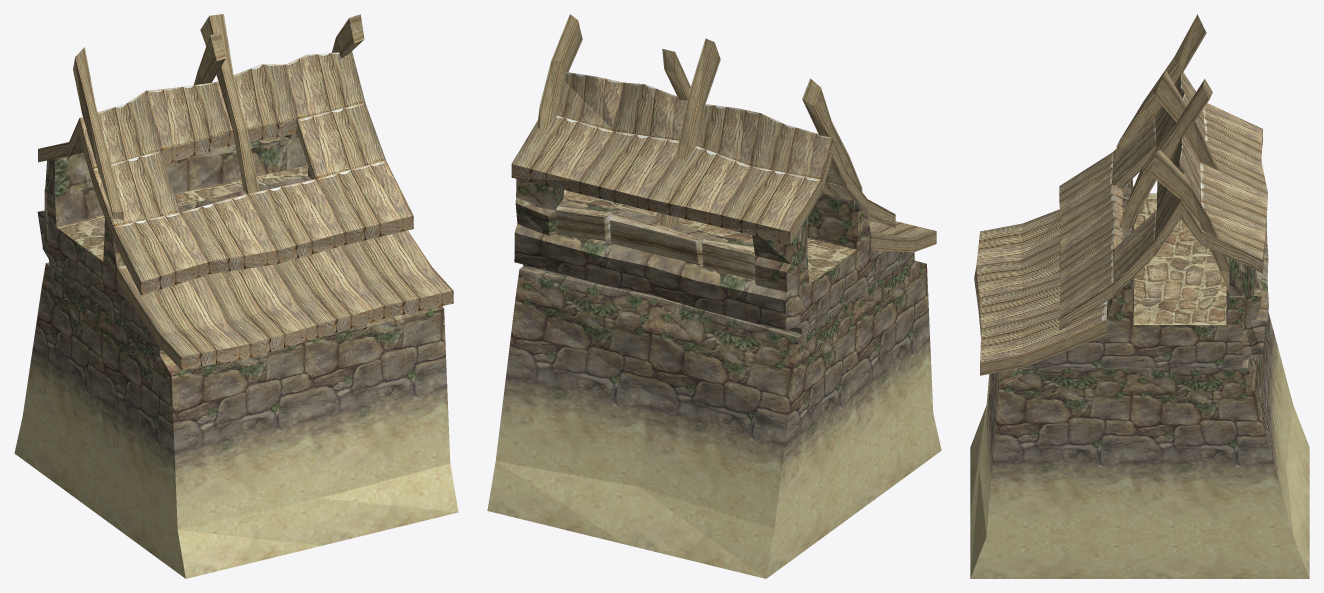
Rendered from C3SMWA20LG_H.obj.
3 renders of one model, left to right at view 1: azimuth 30°, elevation 25°; view 2: azimuth 150°, elevation 25°; view 3: azimuth 270°, elevation 25°, orthographic. The views are drawn at different scales.
Parts seen in each view (by area): view 1: Node 0; view 2: Node 0; view 3: Node 0.
Boxes of the visible parts, x1,y1,x2,y2 form: Node 0: (14,14,458,578); Node 0: (487,14,941,578); Node 0: (970,14,1309,578).
Bounding box in the file's own units: 9.99 × 15.57 × 10.88.
Materials: 2 (2 with a texture image).
